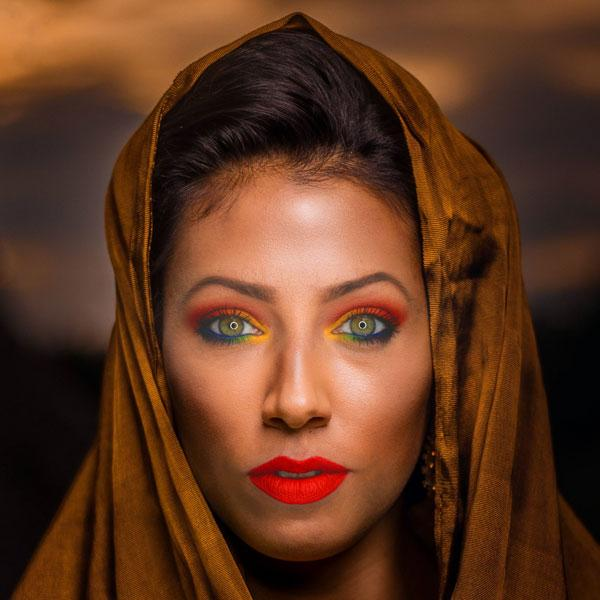Eyes: (184, 294, 278, 354), (319, 297, 412, 352)
